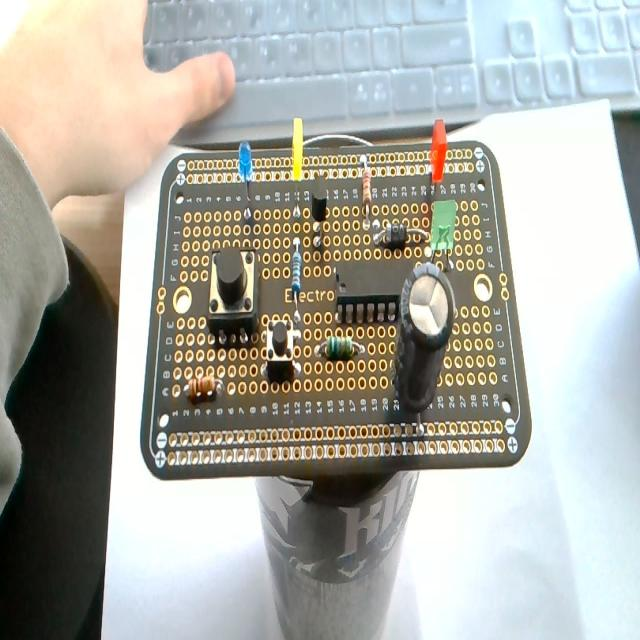Electrolytic capacitor: (393, 262, 455, 420)
IC: (333, 251, 416, 324)
diode: (374, 221, 427, 250)
led: (428, 198, 458, 266), (238, 140, 256, 234), (428, 122, 447, 206), (290, 117, 302, 219)
resistor: (314, 330, 362, 361), (184, 373, 222, 400), (360, 159, 372, 227), (291, 247, 301, 294)
switch: (207, 247, 259, 342), (264, 316, 300, 381)
transistor: (310, 174, 329, 249)
